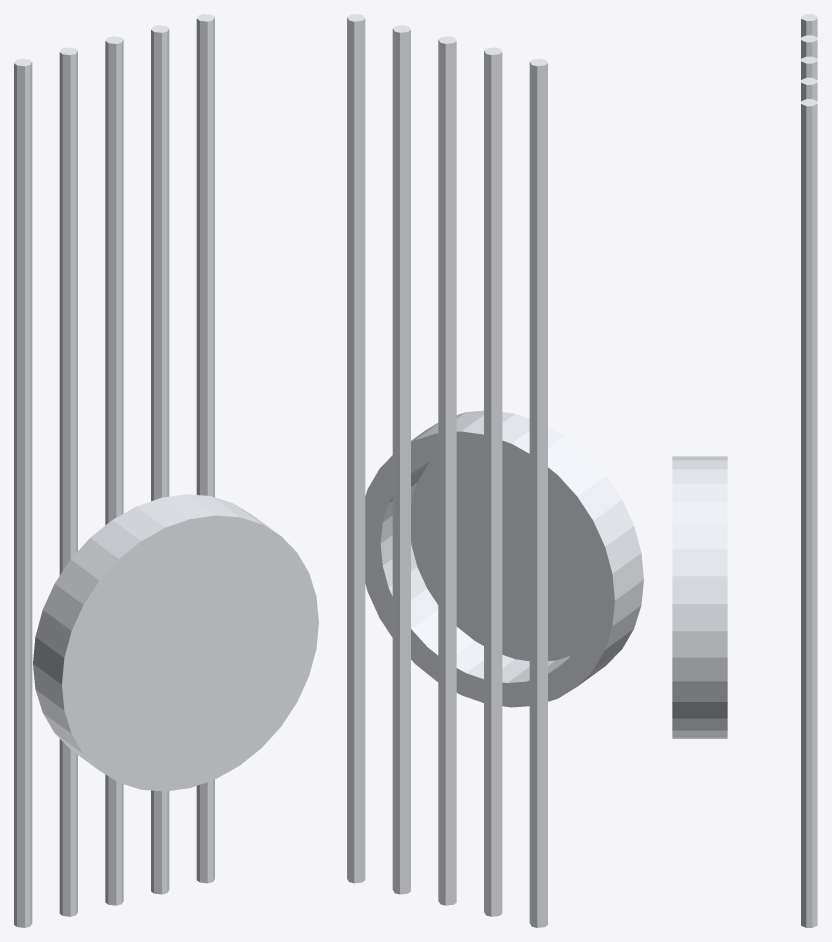
File: fgr_fur_guitar.fbx
3 renders of one model, left to right at view 1: azimuth 30°, elevation 25°; view 2: azimuth 150°, elevation 25°; view 3: azimuth 270°, elevation 25°, orthographic. The views are drawn at different scales.
Visible parts, largest first — view 1: fgr_fur_guitar_hole, fgr_fur_guitar_strings; view 2: fgr_fur_guitar_strings, fgr_fur_guitar_hole; view 3: fgr_fur_guitar_hole, fgr_fur_guitar_strings.
Boxes of the visible parts, x1,y1,x2,y2 form: fgr_fur_guitar_hole: (33, 494, 318, 791); fgr_fur_guitar_strings: (14, 14, 214, 927); fgr_fur_guitar_strings: (347, 14, 547, 927); fgr_fur_guitar_hole: (365, 410, 643, 707); fgr_fur_guitar_hole: (672, 456, 727, 738); fgr_fur_guitar_strings: (801, 14, 817, 927).
Size of the model in its own units: 2004 by 6419 by 1030.
Materials: 1 (1 with a texture image).
